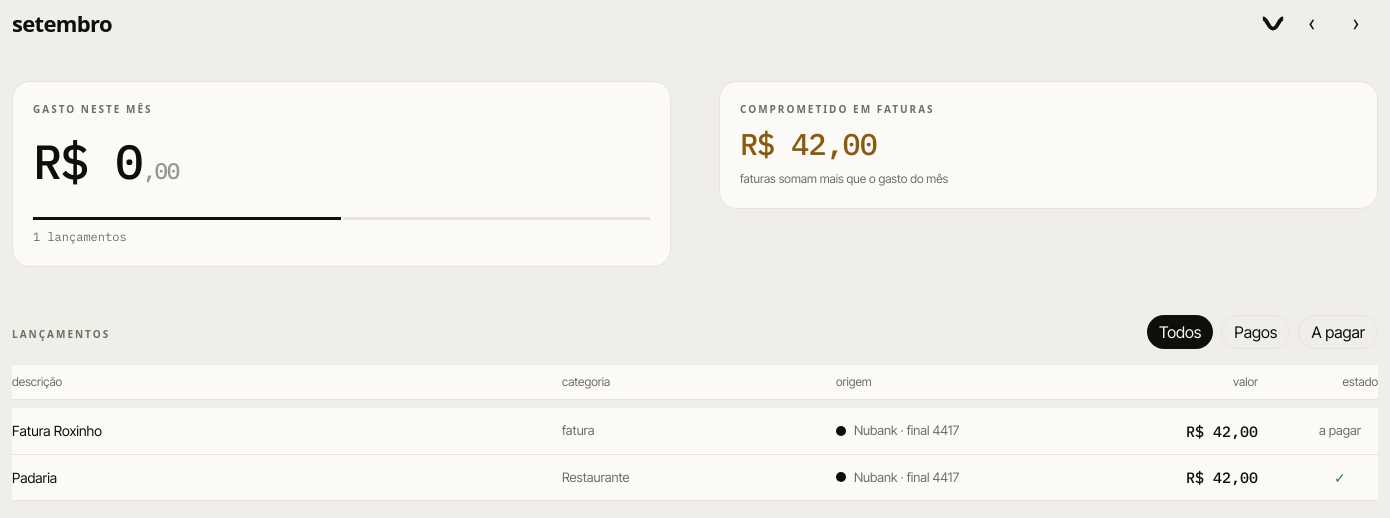
Test: Mes › mostra o total da fatura em a pagar
The width and height of the screenshot is (1390, 518).
Check: the text "Fatura Roxinho" is shown, box [12,422,102,439]
Check: the text named "pago" is shown, box [1334,467,1346,488]
Click the button "A pagar": click(1338, 332) [1298,315,1378,349]
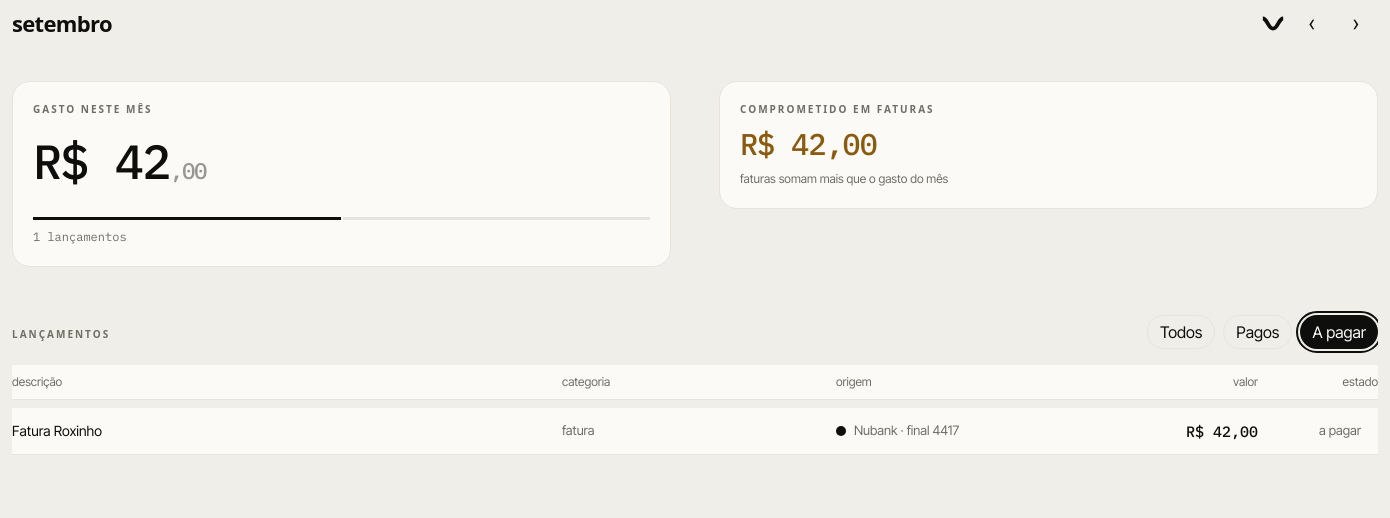
Check: the text "Fatura Roxinho" is shown, box [12,422,102,439]
Check: the link "Padaria" is gone
